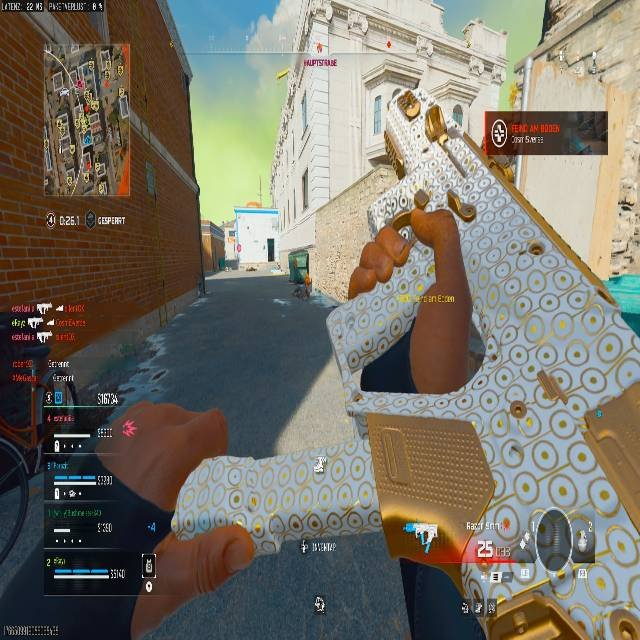player: (329, 97, 482, 398)
